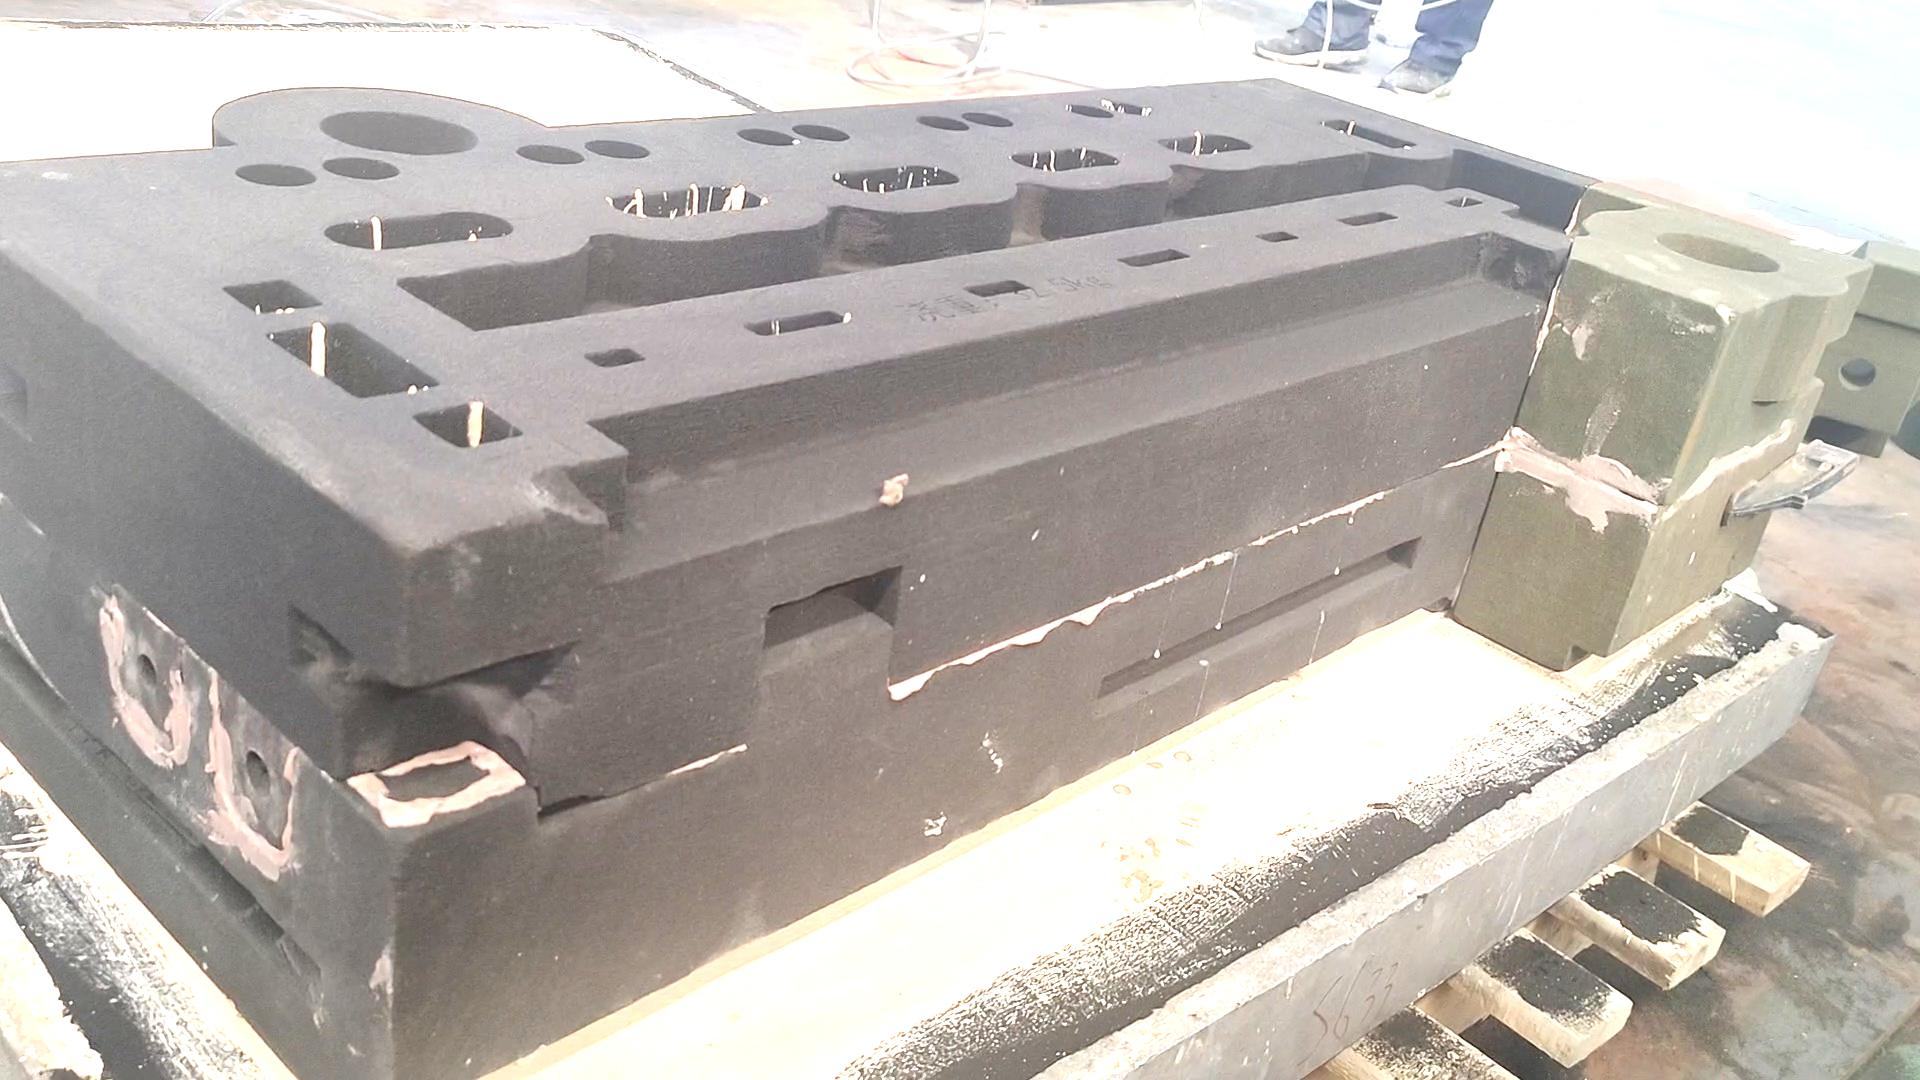pouring hole: (320, 109, 479, 156), (1655, 229, 1779, 274)
